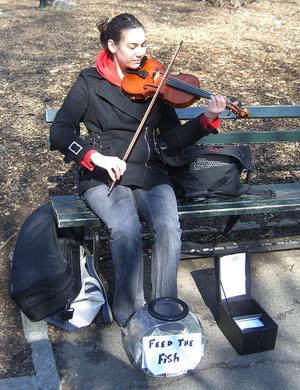person: (49, 12, 228, 338)
